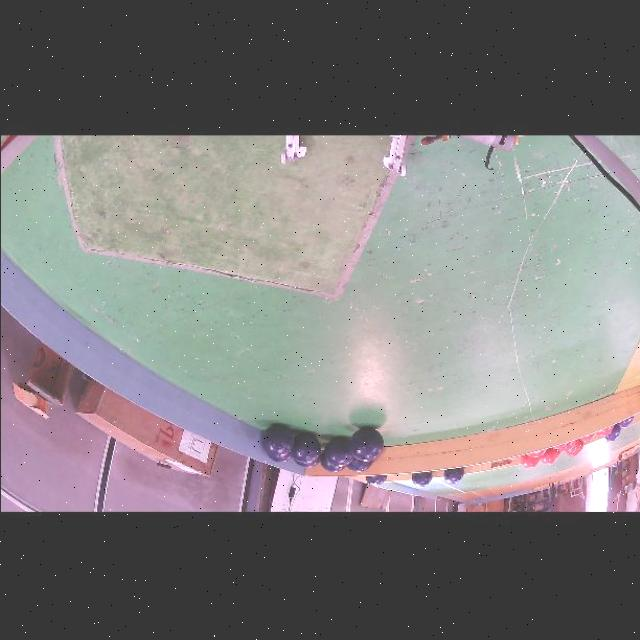B: (349, 427, 383, 462), (260, 425, 293, 457), (323, 437, 353, 467), (290, 433, 320, 463), (319, 452, 344, 473), (294, 454, 320, 469), (345, 458, 371, 473), (443, 467, 463, 483), (410, 473, 431, 487), (267, 452, 290, 463), (365, 475, 386, 487)
P: (604, 424, 620, 441), (617, 416, 633, 428)
R: (540, 449, 559, 465), (520, 456, 540, 469), (567, 441, 583, 457), (565, 440, 578, 456), (558, 441, 575, 452), (595, 426, 613, 436), (527, 449, 545, 458), (579, 433, 595, 441), (552, 443, 566, 450)
